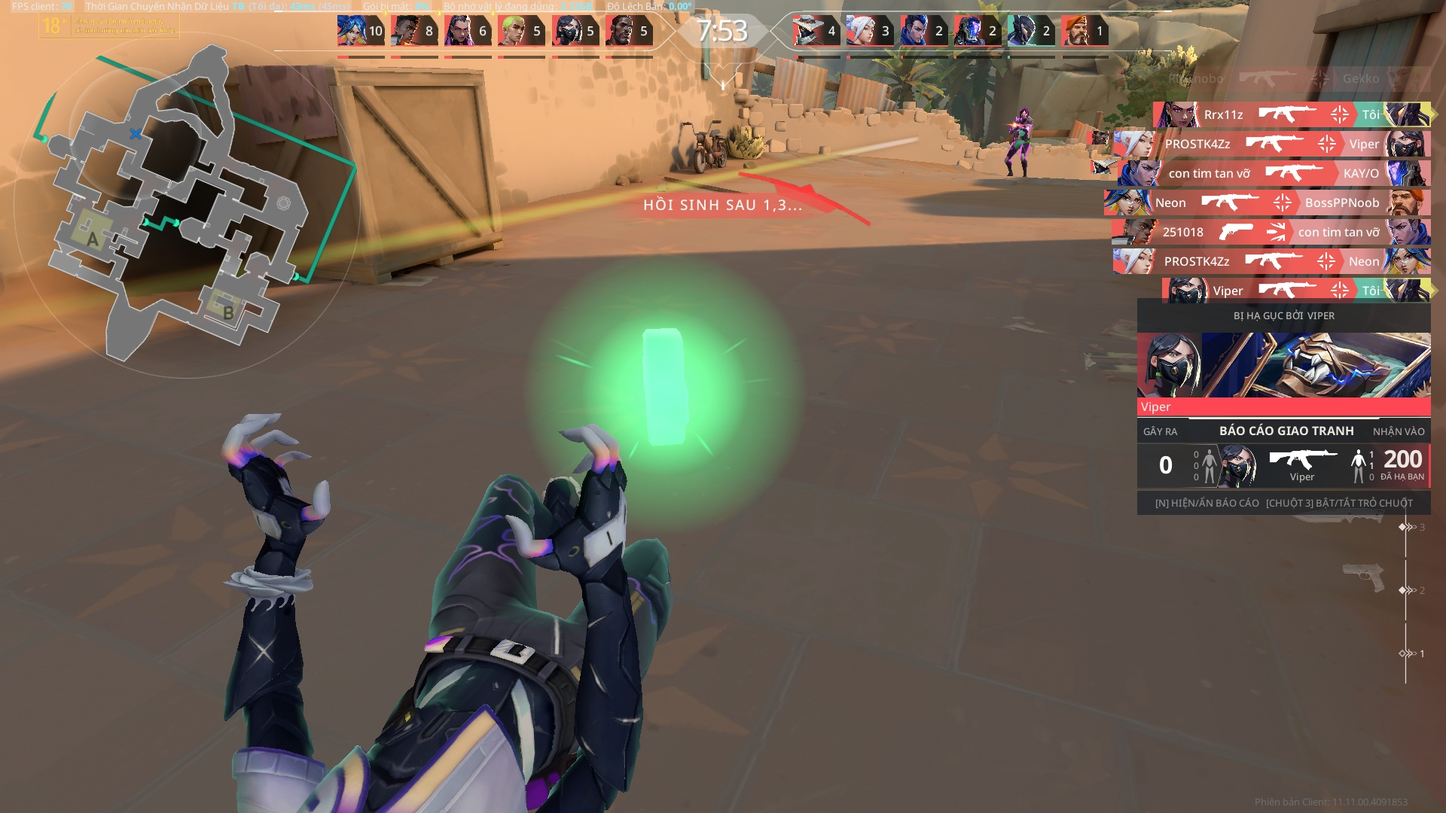body: (1013, 115, 1030, 144)
head: (1020, 106, 1029, 122)
